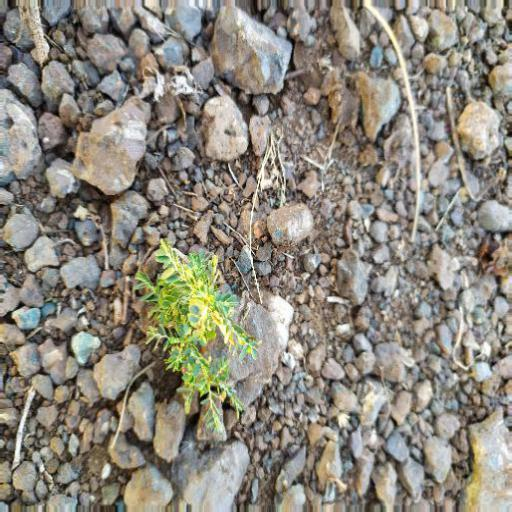weed: (140, 233, 263, 427)
